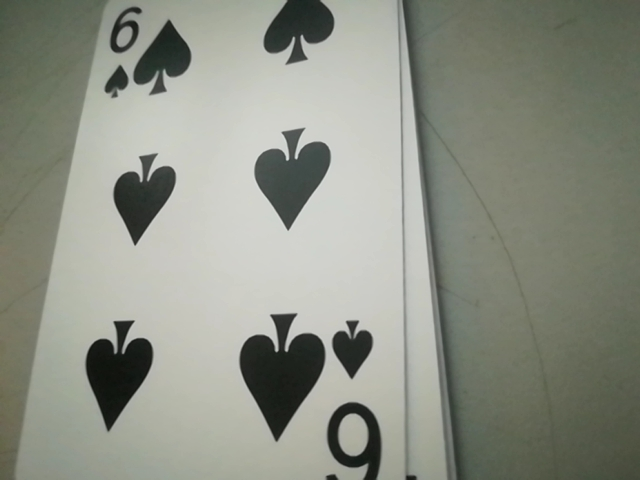ht 6: (324, 324, 388, 480), (96, 0, 158, 103)
